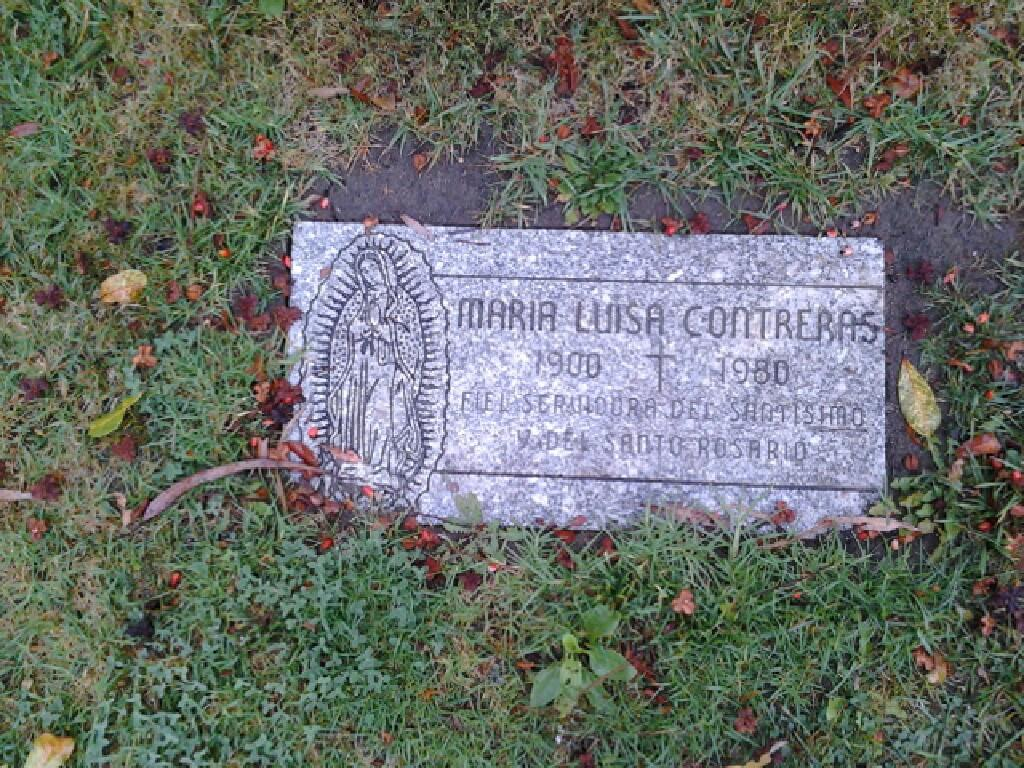flat: (231, 156, 943, 564)
